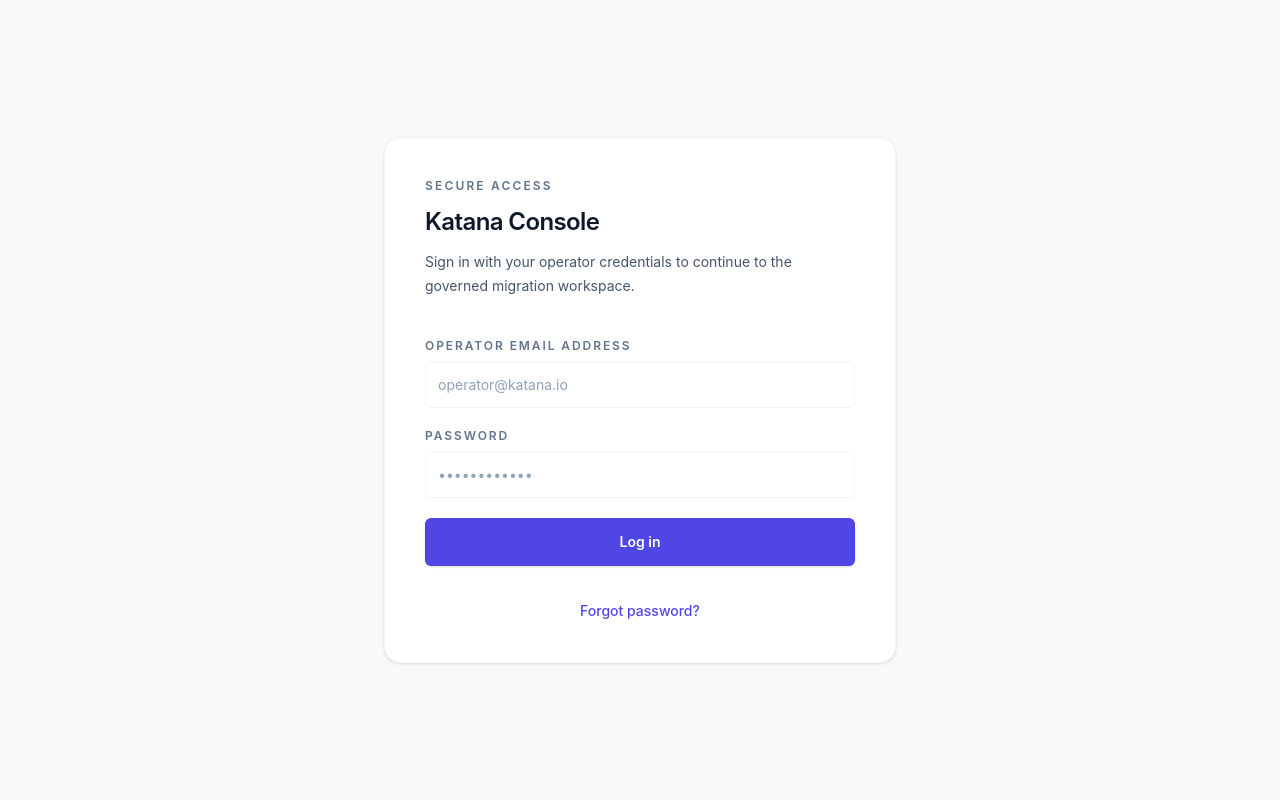
Test: HomePage › logs in and switches to the authenticated shell
Type "operator@example.com" into the field with placeholder "operator@katana.io" at (640, 385), box [425,362,855,408]
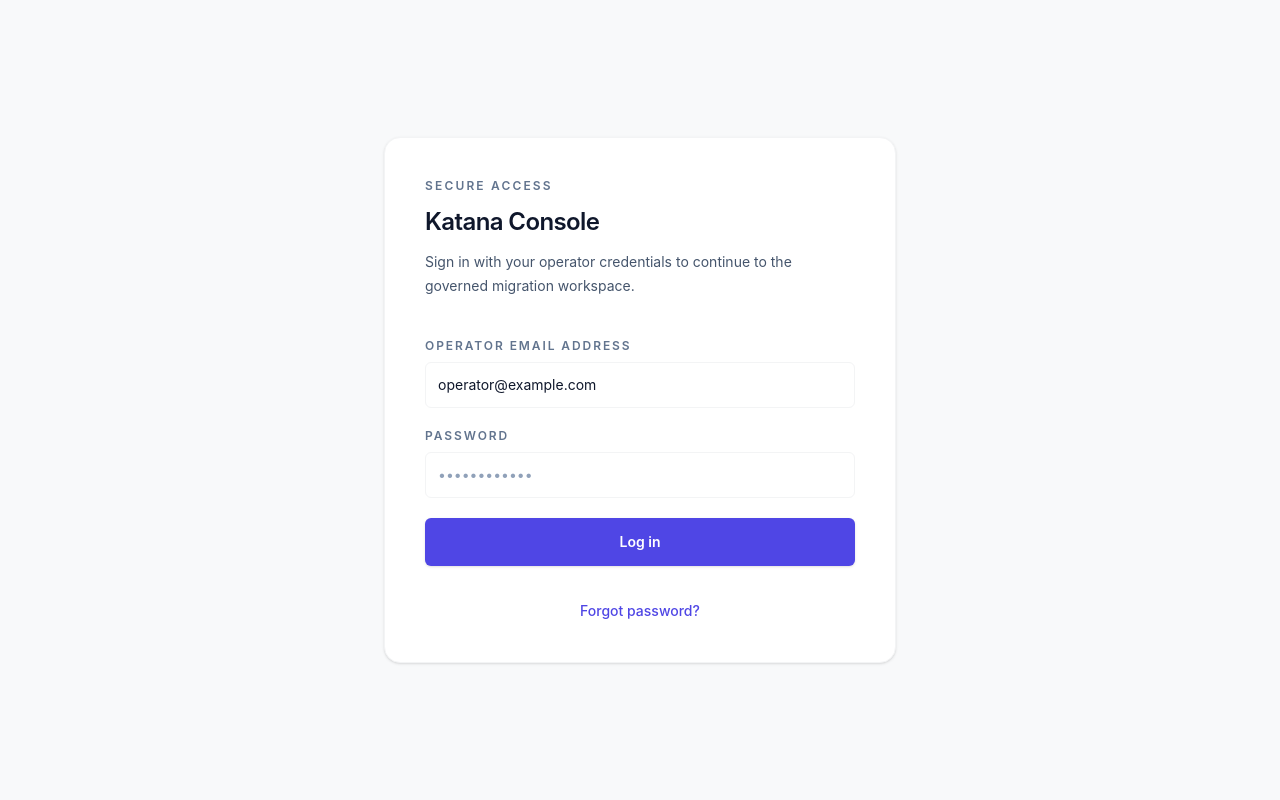
Type "secret-password" into the password field with placeholder "••••••••••••" at (640, 475), box [425,452,855,498]
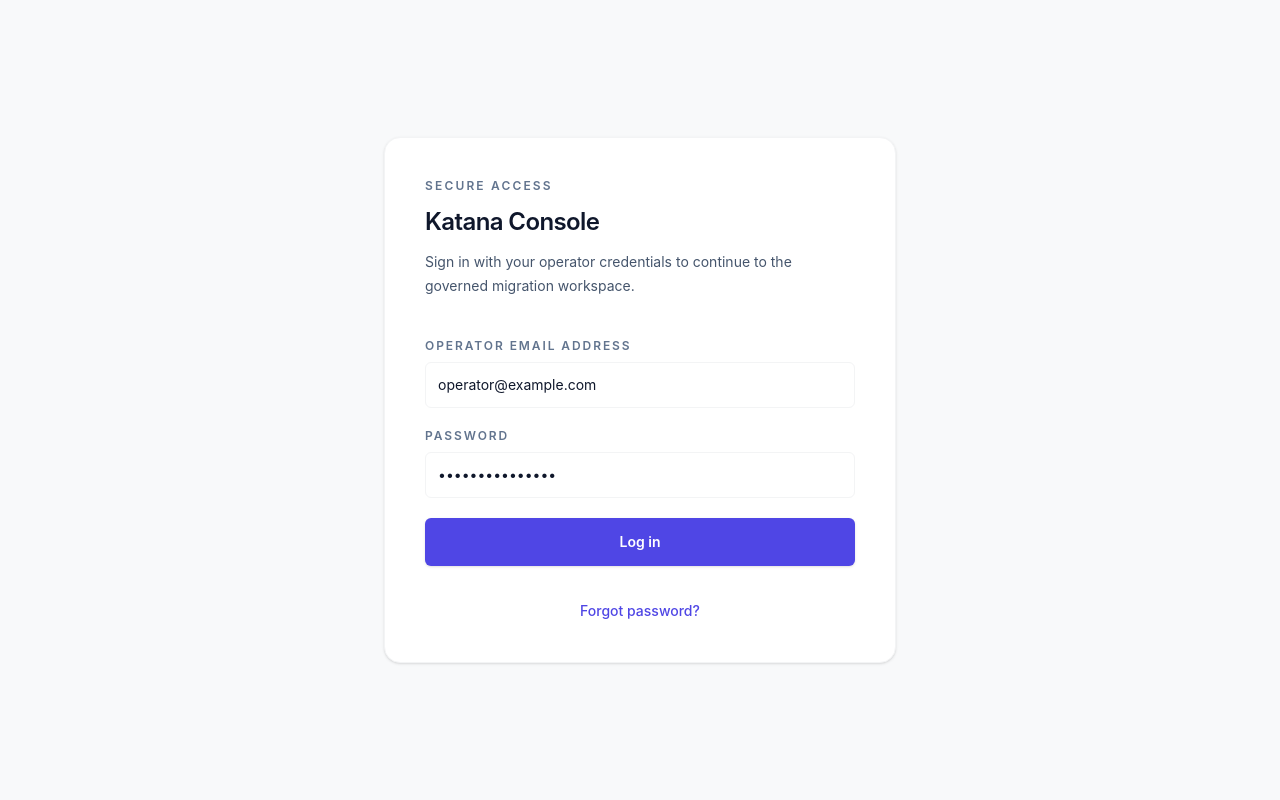
Submit the form "Log in", box [425,338,855,566]
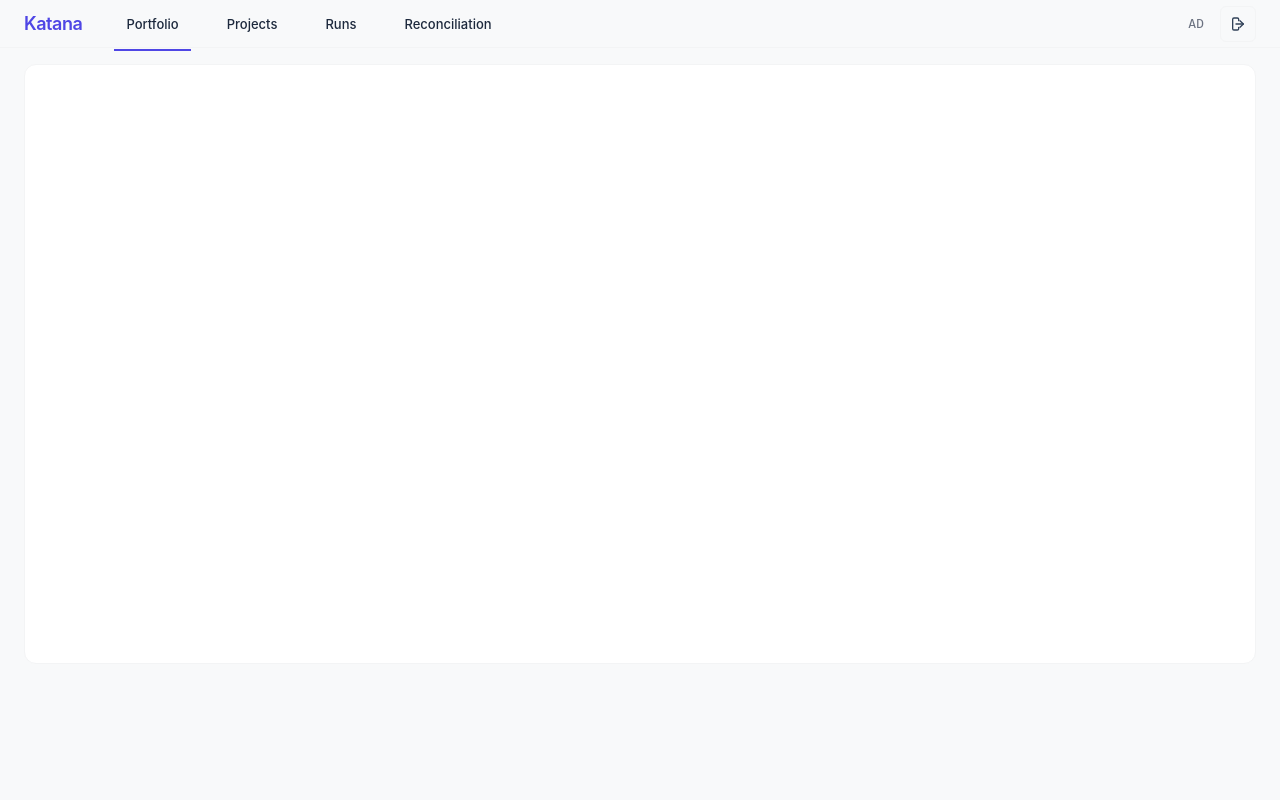
Check: the button named "Log out" is shown, box [1220,6,1256,42]
